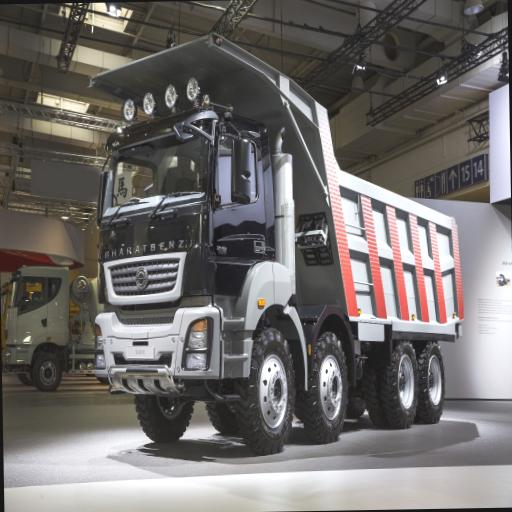truck: (84, 30, 466, 456)
